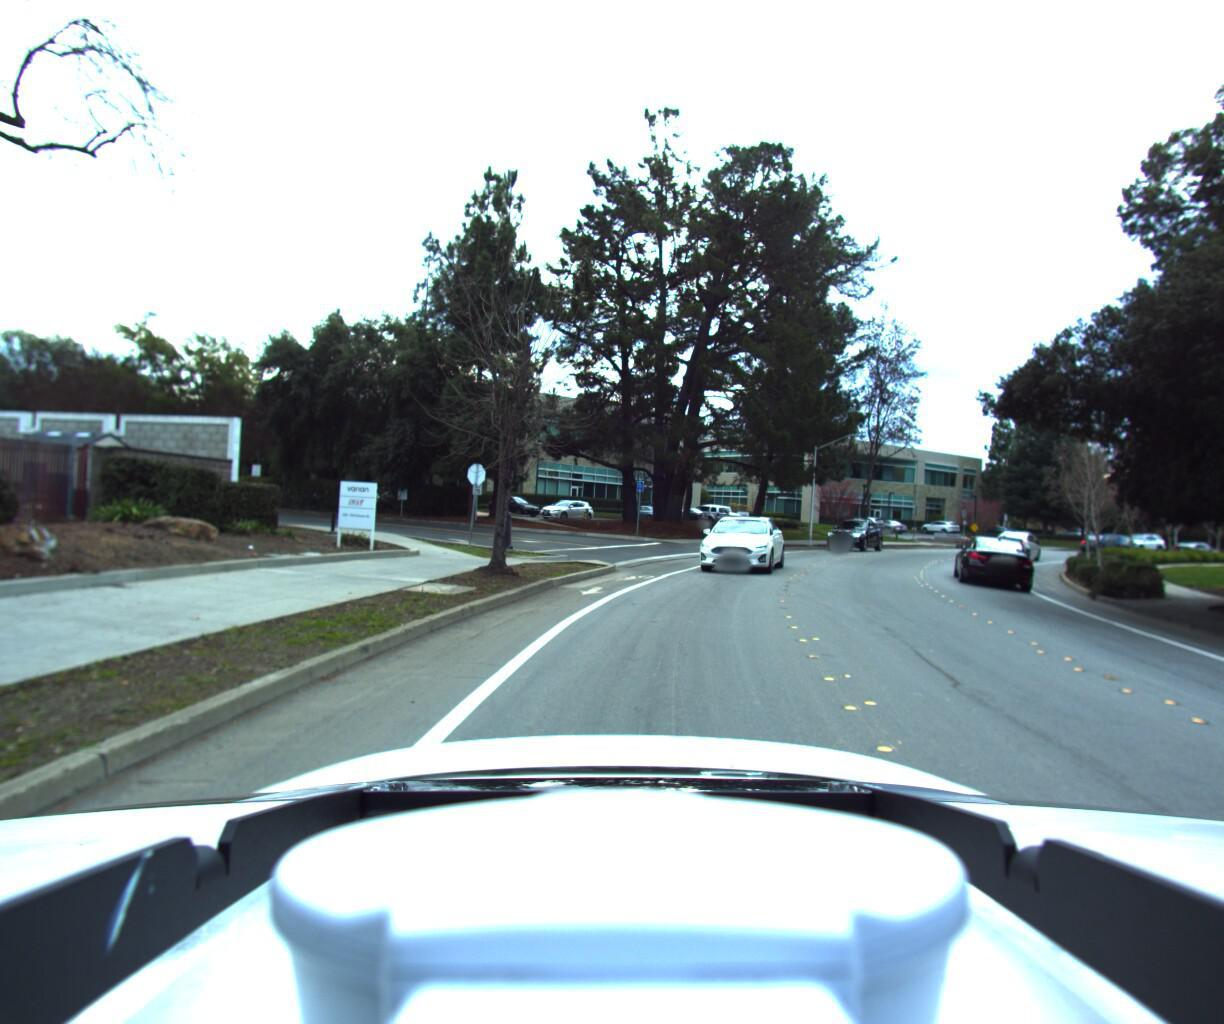car: (683, 507, 783, 576), (955, 527, 1033, 585), (818, 513, 885, 549), (982, 527, 1036, 564), (995, 527, 1056, 559), (1111, 523, 1166, 548)
